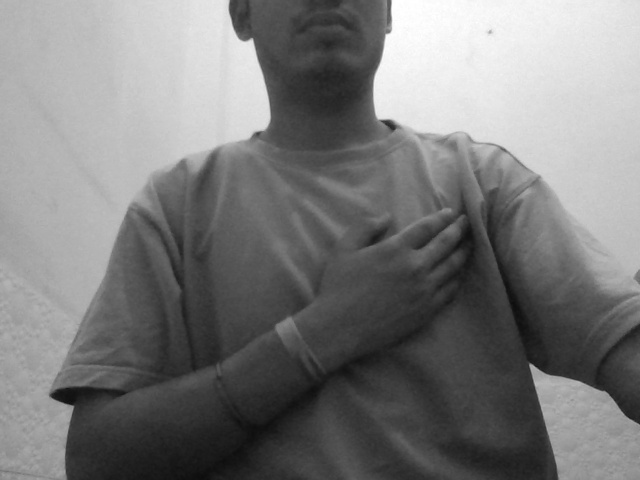Sorry: (306, 205, 531, 364)
